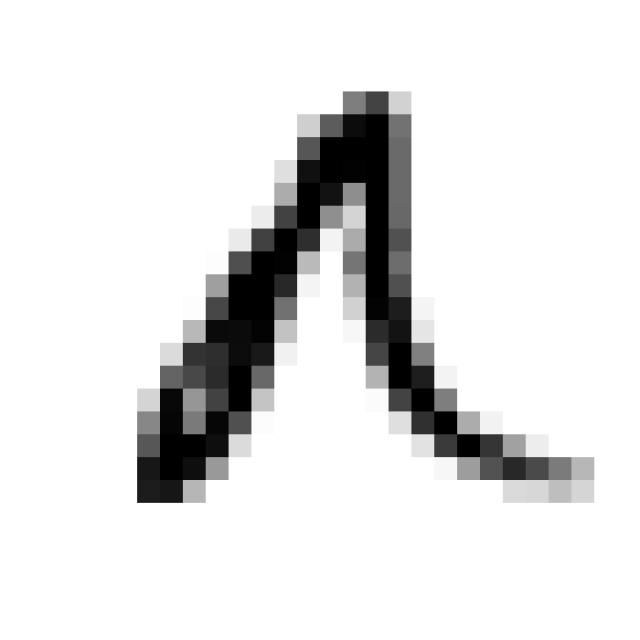8 -eight-: (114, 73, 603, 524)
